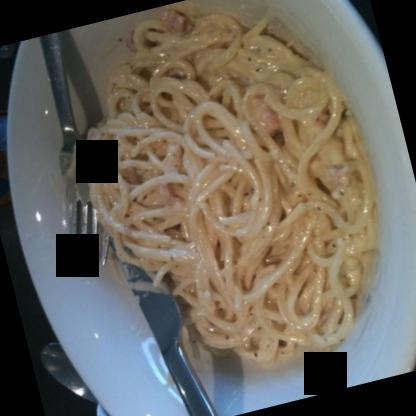pasta: (53, 0, 374, 386)
